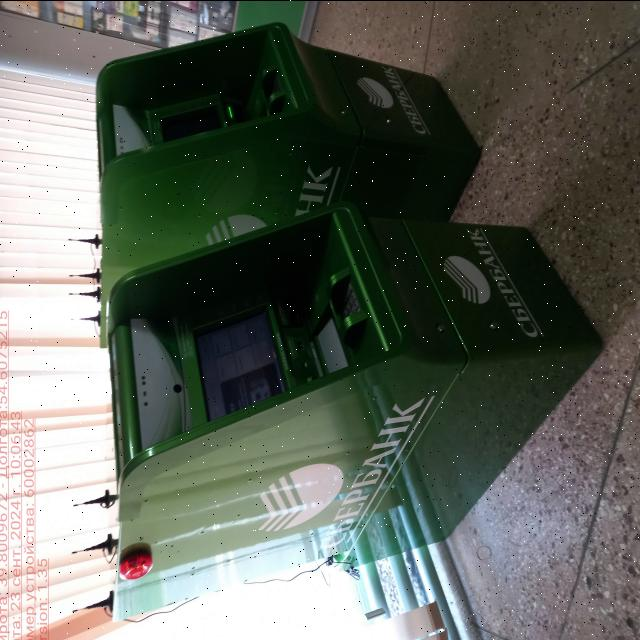bank: (102, 225, 594, 628), (95, 22, 488, 343)
